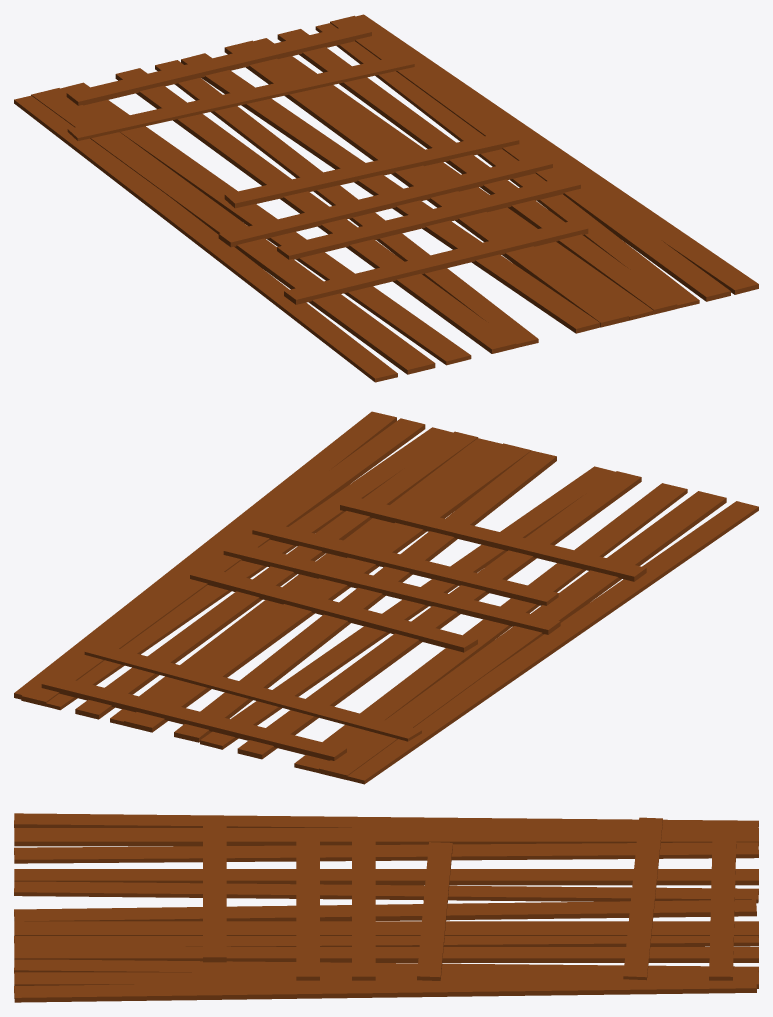
The model's file is Prop_Ruins_Wood_Plank_Platform_01.FBX.
3 views of the same model, one above another, from view 1: azimuth 30°, elevation 25°; view 2: azimuth 150°, elevation 25°; view 3: azimuth 270°, elevation 25° (orthographic).
Visible parts, largest first — view 1: Prop_Ruins_Wood_Plank_Platform_01; view 2: Prop_Ruins_Wood_Plank_Platform_01; view 3: Prop_Ruins_Wood_Plank_Platform_01.
Part boxes in pixels (x1,y1,x2,y2): Prop_Ruins_Wood_Plank_Platform_01: [14, 14, 758, 382]; Prop_Ruins_Wood_Plank_Platform_01: [14, 411, 758, 784]; Prop_Ruins_Wood_Plank_Platform_01: [14, 813, 758, 1002].
Bounding box in the file's own units: 4794 × 106 × 8143.
